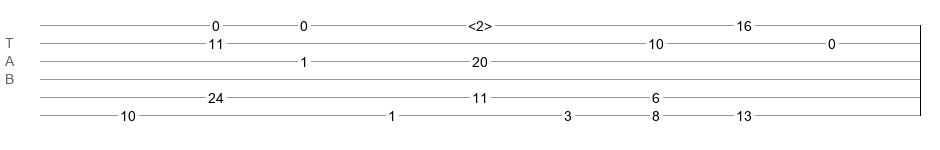0: (212, 18, 220, 28), (300, 18, 308, 28), (828, 36, 836, 46)
1: (300, 54, 308, 64), (388, 108, 396, 118)
10: (120, 108, 136, 118), (648, 36, 664, 46)
11: (208, 36, 224, 46), (472, 90, 488, 100)
13: (736, 108, 752, 118)
16: (736, 18, 752, 28)
20: (472, 54, 488, 64)
24: (208, 90, 224, 100)
3: (564, 108, 572, 118)
6: (652, 90, 660, 100)
8: (652, 108, 660, 118)
harmonic: (468, 18, 492, 28)
